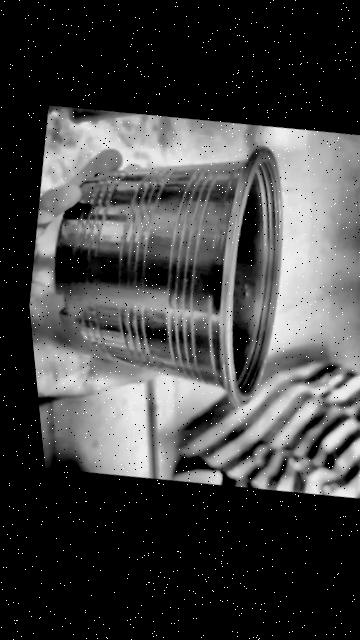pot: (17, 108, 317, 431)
